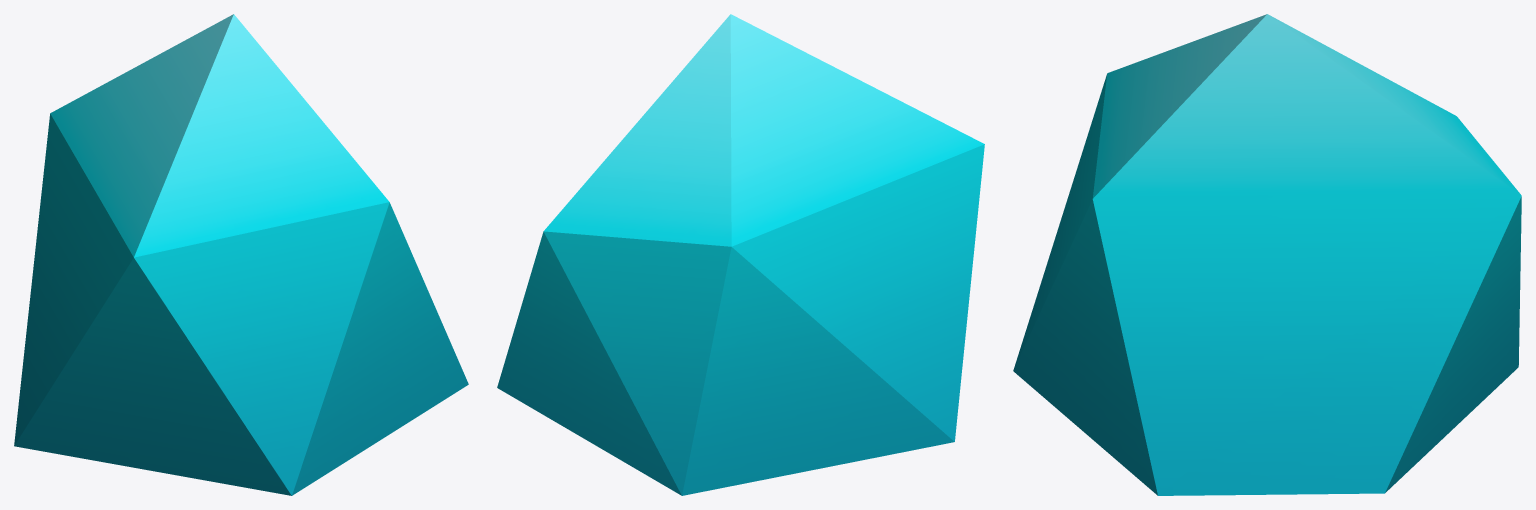
The model's file is Crystall_3.fbx.
3 views of the same model, side by side, from view 1: azimuth 30°, elevation 25°; view 2: azimuth 150°, elevation 25°; view 3: azimuth 270°, elevation 25° (orthographic). The views are drawn at different scales.
Visible parts, largest first — view 1: Crystall_3; view 2: Crystall_3; view 3: Crystall_3.
Boxes of the visible parts, box(x1,y1,x2,y2) form: Crystall_3: box(14, 14, 468, 495); Crystall_3: box(497, 14, 984, 495); Crystall_3: box(1013, 14, 1521, 495).
Bounding box in the file's own units: 122 × 122 × 128.
